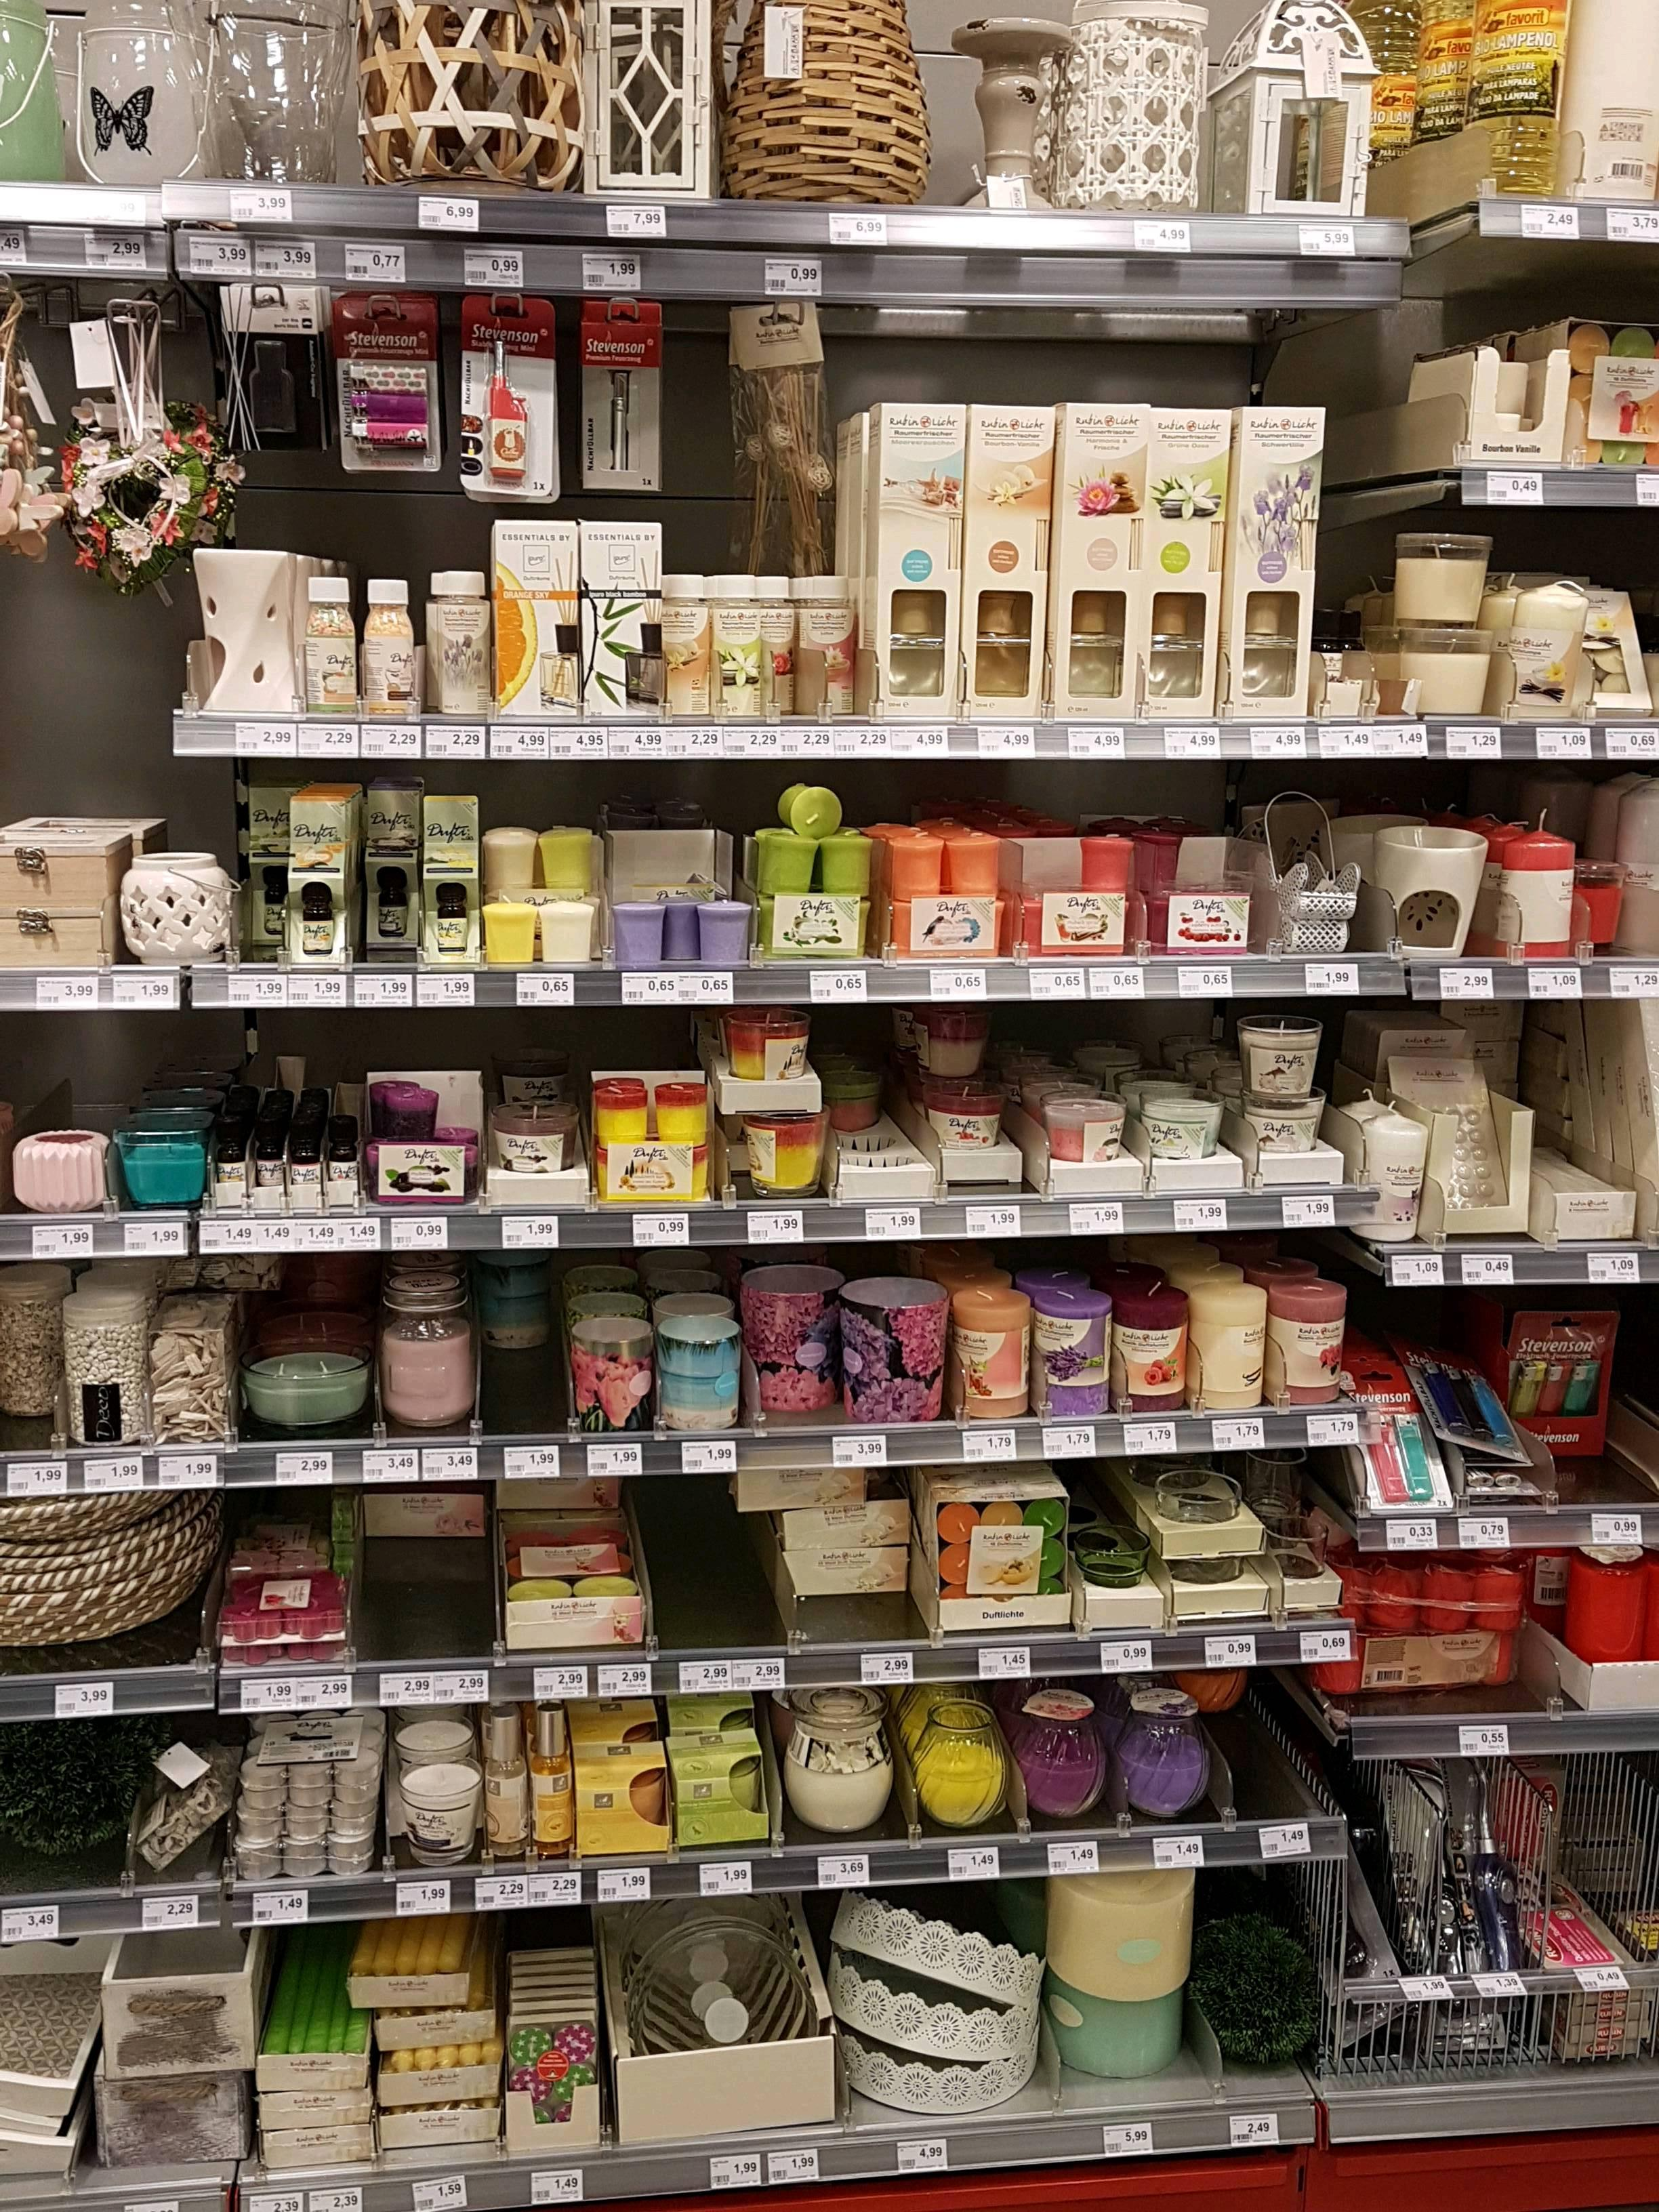misalignment: (1405, 1327, 1520, 1465), (145, 1731, 227, 1862), (727, 1461, 880, 1515), (777, 777, 852, 838)
